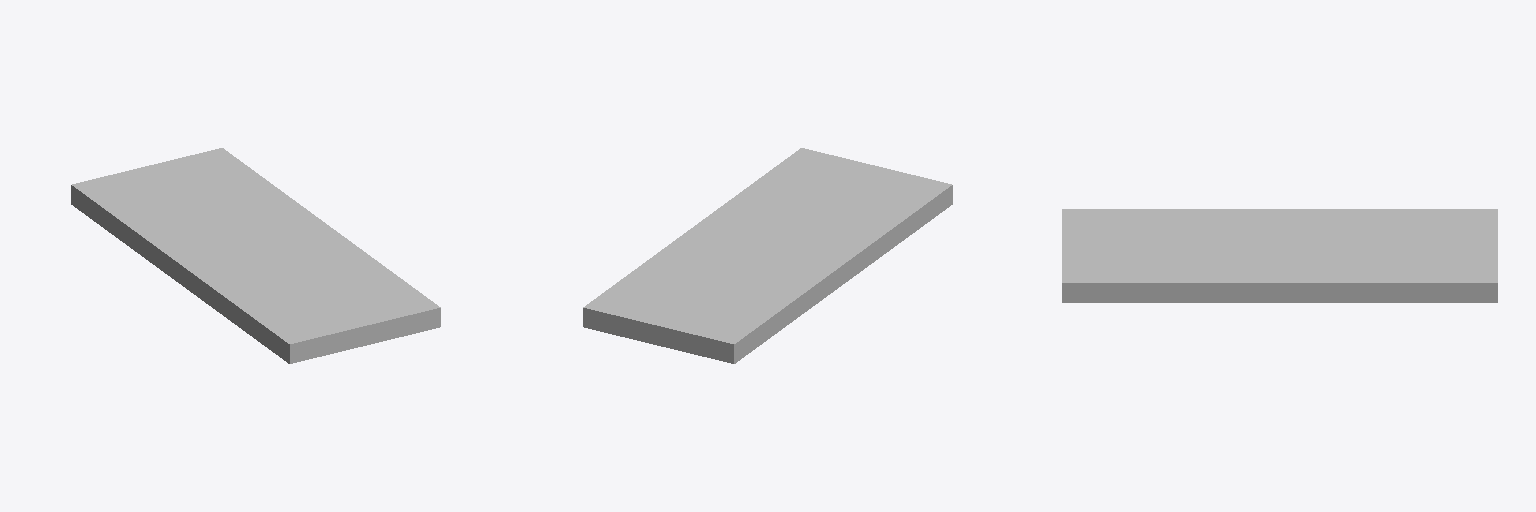
Rendered from street2.obj.
3 views of the same model, side by side, from view 1: azimuth 30°, elevation 25°; view 2: azimuth 150°, elevation 25°; view 3: azimuth 270°, elevation 25° (orthographic).
Size of the model in its own units: 16 by 2 by 40.